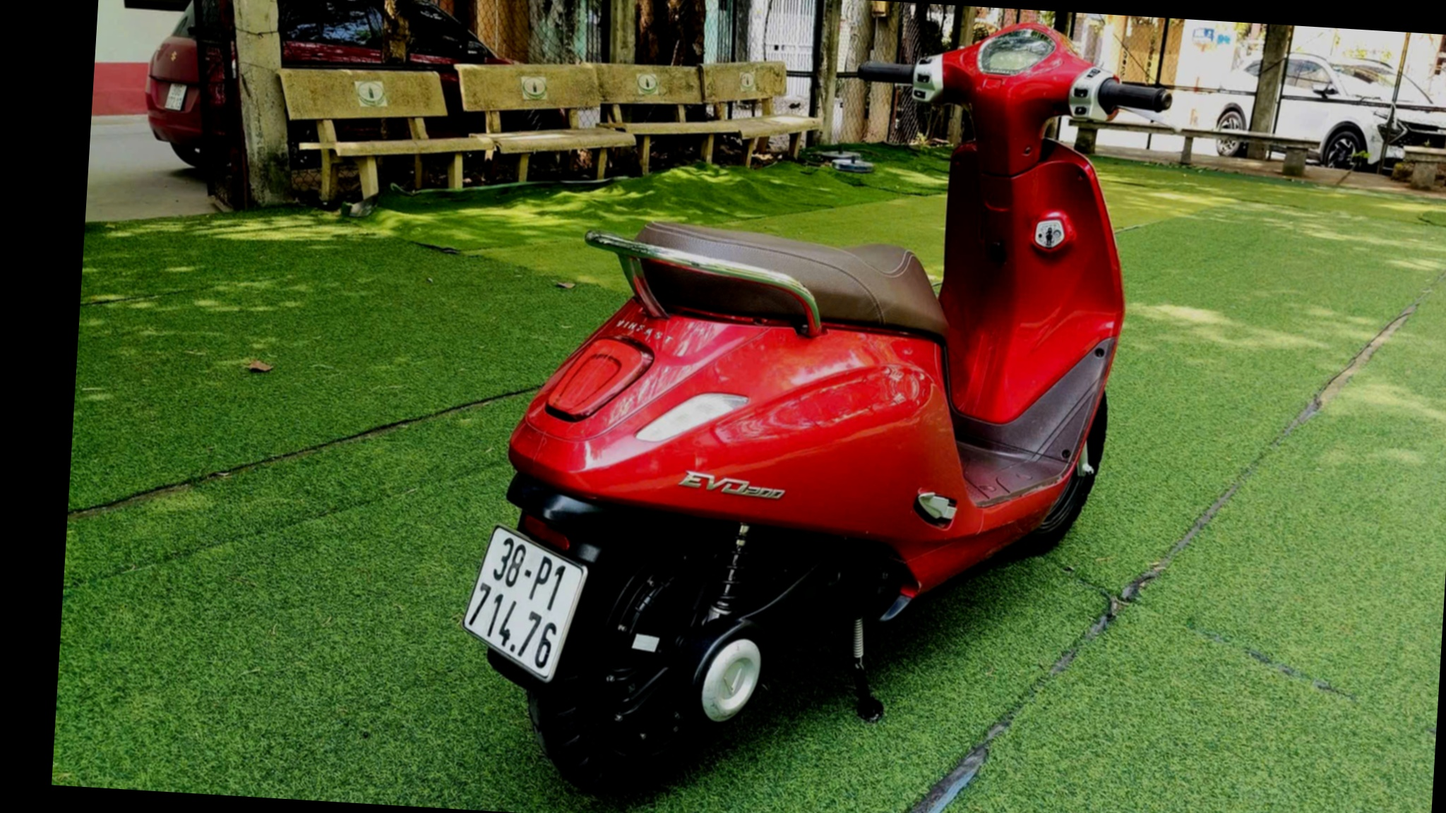Bien-so: (456, 526, 596, 686)
